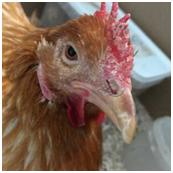AbNormal: (99, 2, 133, 83)
